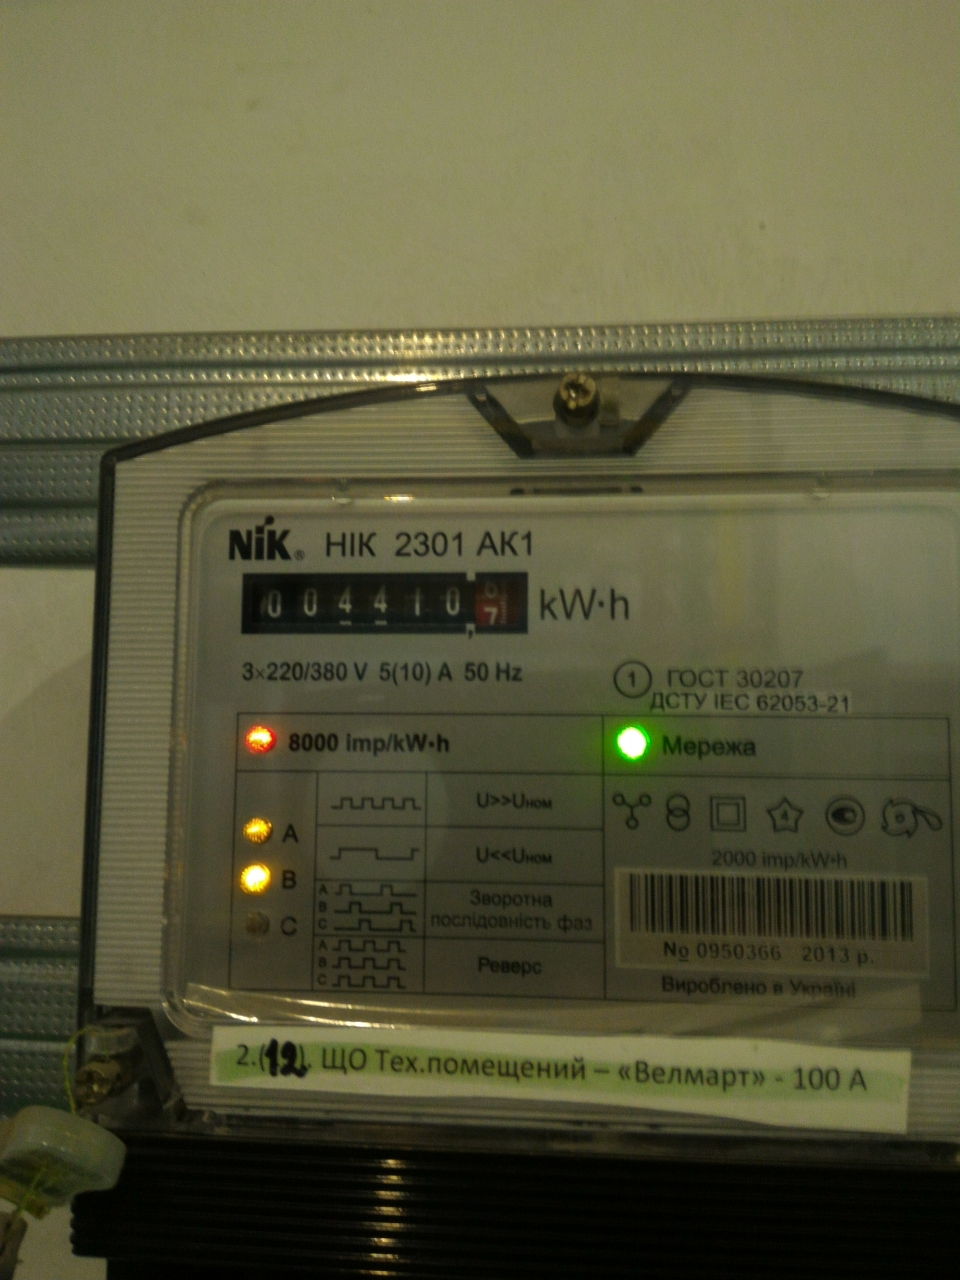0: (443, 584, 463, 619), (301, 584, 320, 619), (264, 587, 284, 619)
1: (410, 583, 424, 619)
4: (370, 581, 390, 615), (337, 582, 354, 616)
7: (481, 604, 502, 626)
screen: (230, 561, 541, 646)
x: (481, 575, 500, 600)
